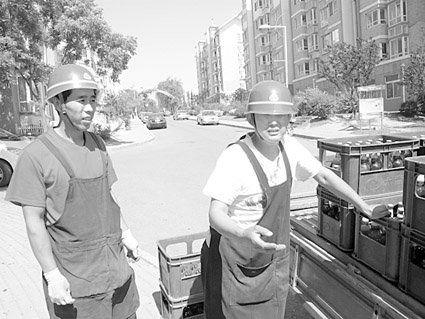helmet: (41, 65, 101, 102), (245, 81, 297, 118)
